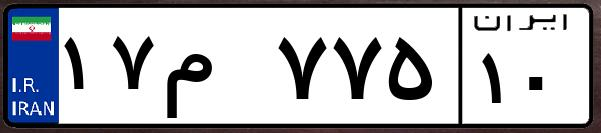0: (525, 38, 570, 115)
1: (57, 26, 110, 100), (475, 38, 525, 113)
5: (385, 28, 445, 110)
7: (270, 28, 330, 110), (330, 28, 385, 110), (110, 28, 158, 98)
م: (158, 20, 270, 120)
